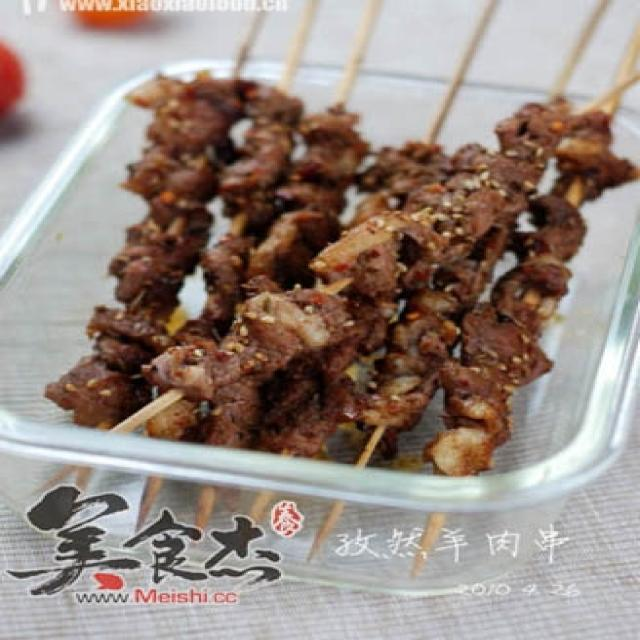烧串烤肉: (35, 4, 613, 557)
